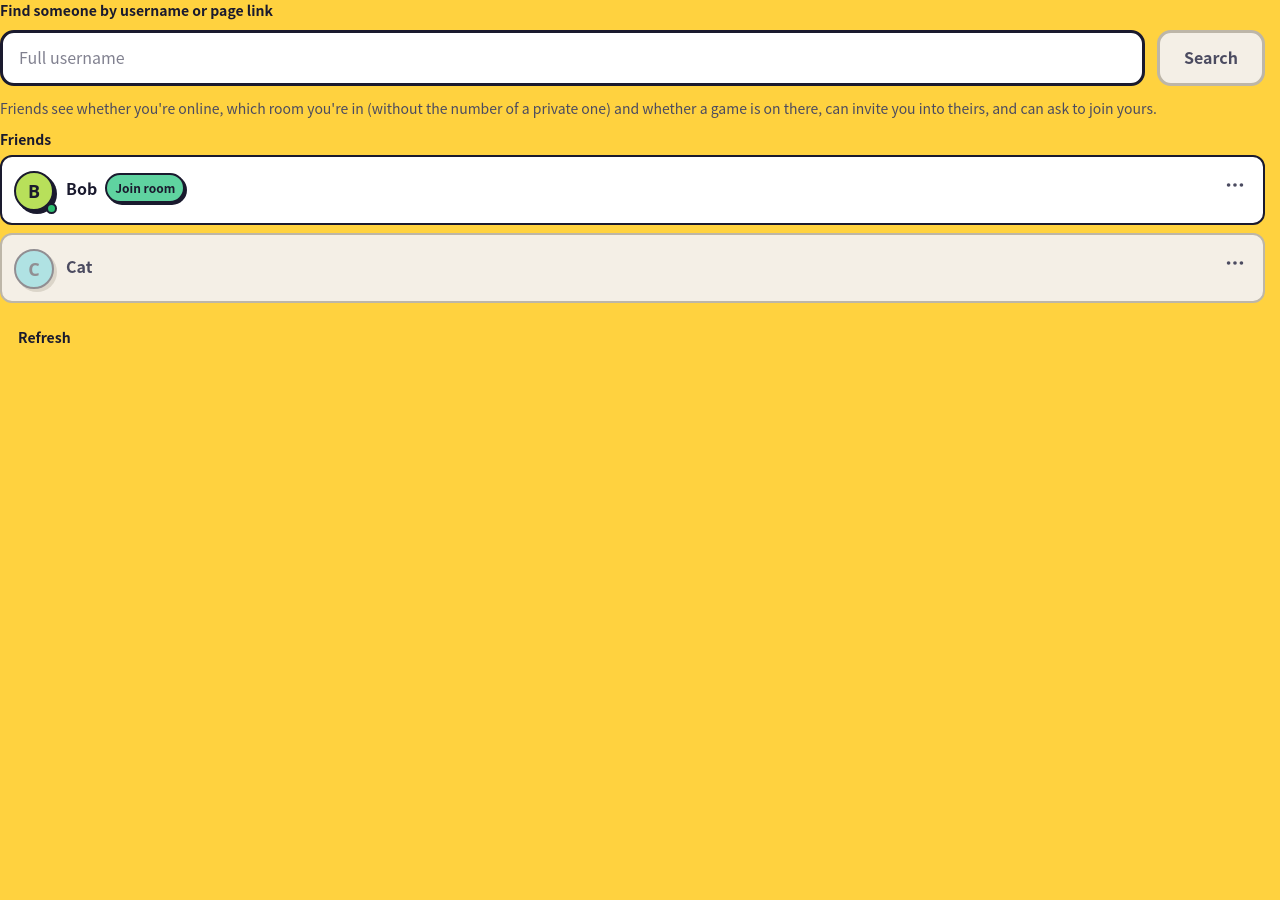
Test: ProfileFriends › opens each friend's panel from their avatar, with the name as plain text and the way into their room beside it
Click the 1st button with class "avatar-button".
click(34, 192)  # box [14,172,54,212]
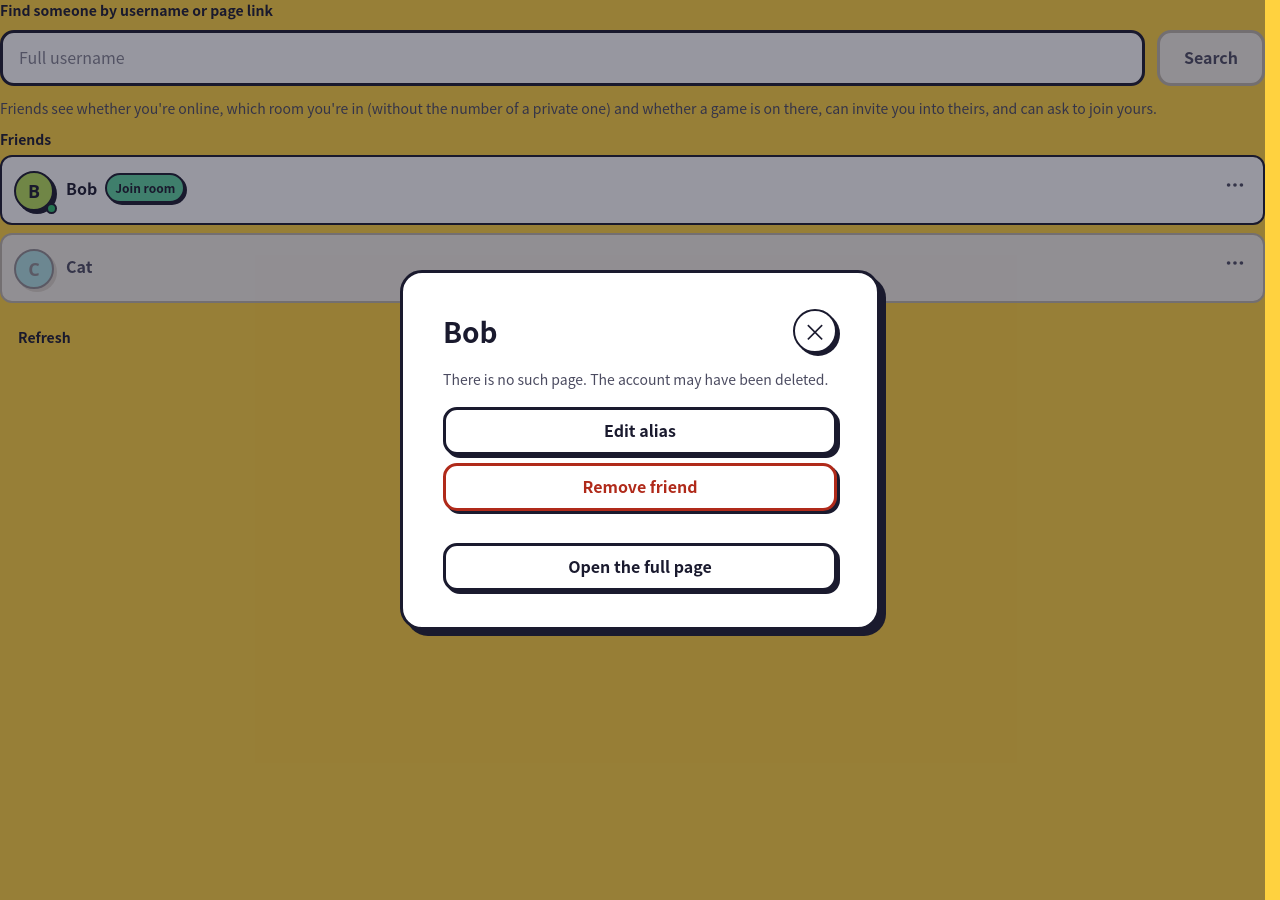
Expected: the element with class "dot" is shown, [46,204,57,214]
Now the heading "Bob" is shown, box [443,311,498,351]
